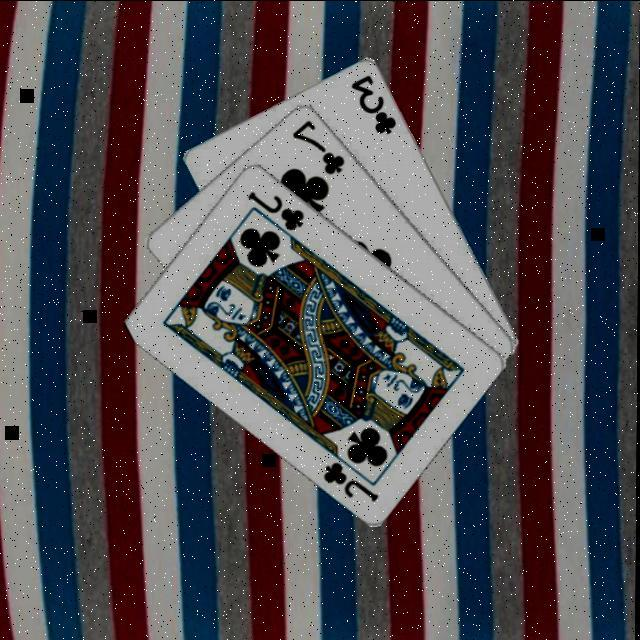3C: (347, 69, 399, 135)
7C: (288, 114, 348, 176)
JC: (244, 186, 306, 232), (319, 456, 381, 502)
